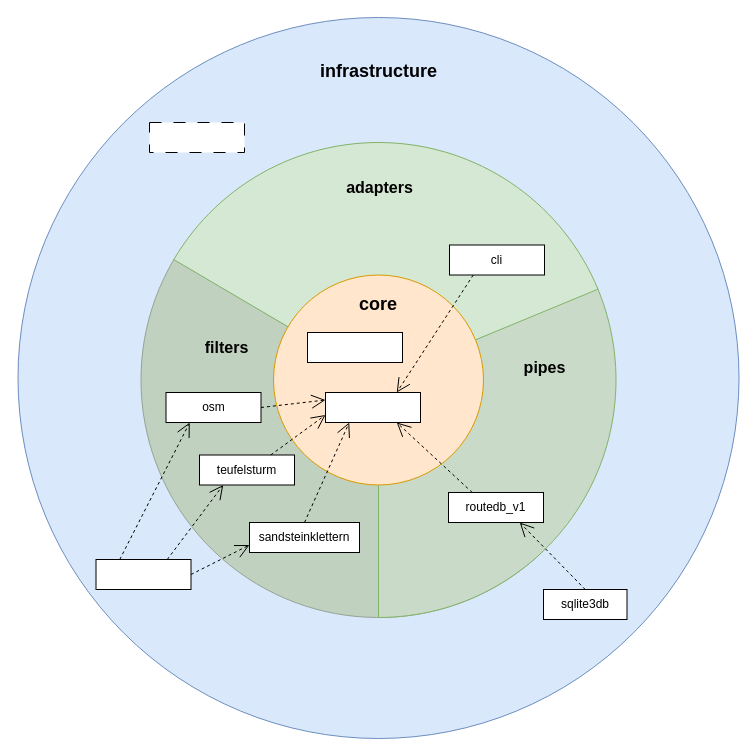
This 756x756 diagram has some shape labels left out. The box of each missing label's shape, as (x1, y1, x2, y2) in pixels:
entities: (306, 332, 402, 362)
http-requests: (95, 558, 191, 590)
main: (148, 122, 244, 152)
usecases: (324, 392, 420, 422)
